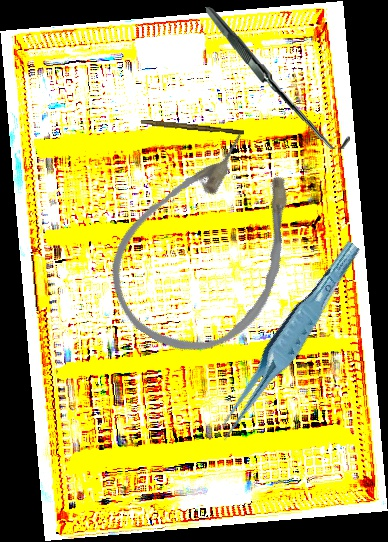Cannula: (85, 110, 337, 381)
Hook Surgical: (205, 2, 351, 154)
Scalpel Handle: (140, 119, 245, 136)
Tissue Forceps: (200, 239, 374, 443)
